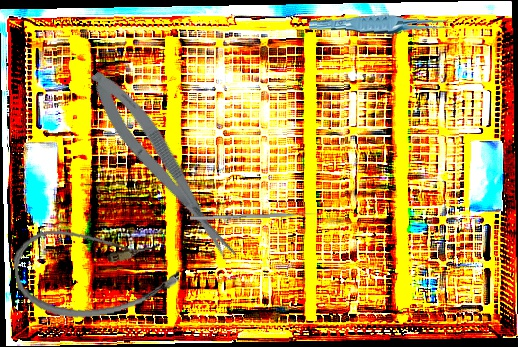Cannula: (9, 213, 184, 327)
Micro Scissor: (81, 62, 243, 271)
Pusher: (189, 211, 322, 221)
Tissue Forceps: (308, 8, 455, 42)
